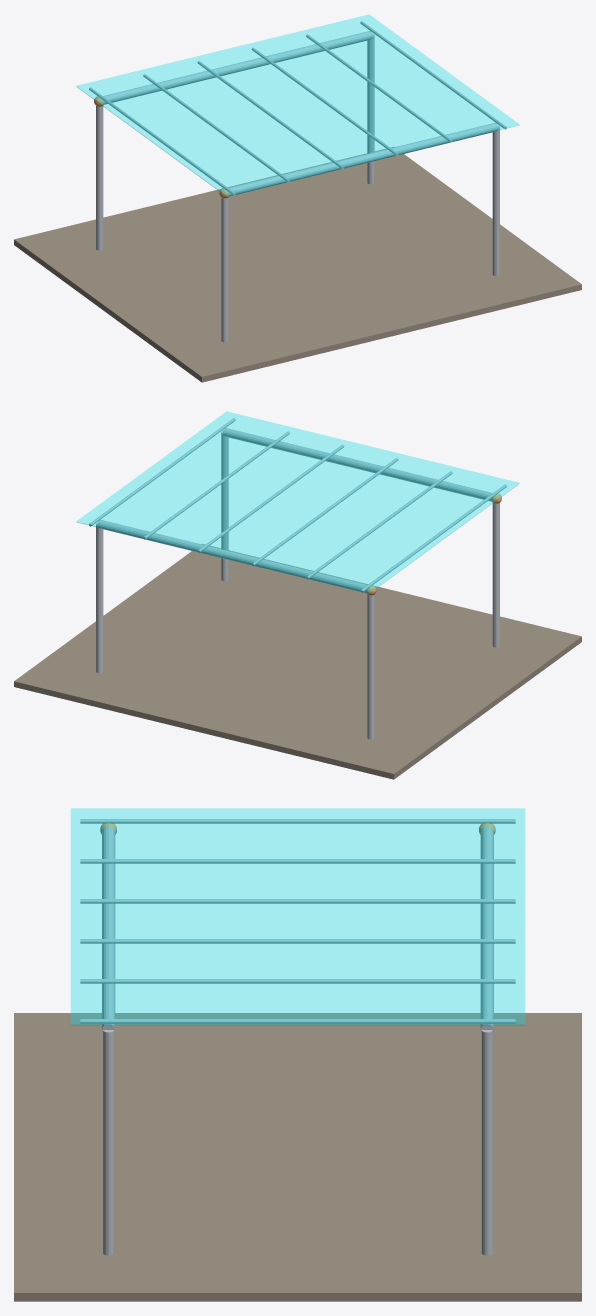
File: ar-bab08-carport.glb
The picture shows the model from 3 angles, top to bottom: view 1: azimuth 30°, elevation 25°; view 2: azimuth 150°, elevation 25°; view 3: azimuth 270°, elevation 25°; orthographic projection. The views are drawn at different scales.
Visible parts, largest first — view 1: geometry_0, geometry_15, geometry_7, geometry_3, geometry_6, geometry_5, geometry_1, geometry_2, geometry_11, geometry_12, geometry_10, geometry_13 (+2 smaller); view 2: geometry_0, geometry_15, geometry_3, geometry_7, geometry_2, geometry_1, geometry_5, geometry_6, geometry_11, geometry_12, geometry_10, geometry_13 (+2 smaller); view 3: geometry_0, geometry_15, geometry_2, geometry_6, geometry_3, geometry_7, geometry_9, geometry_10, geometry_11, geometry_12, geometry_13, geometry_14.
Part boxes in pixels (box(x1,y1,x2,y2)): geometry_0: box(14, 147, 581, 382); geometry_15: box(76, 14, 519, 196); geometry_7: box(229, 122, 498, 196); geometry_3: box(103, 31, 372, 104); geometry_6: box(492, 125, 499, 276); geometry_5: box(221, 197, 228, 342); geometry_1: box(96, 106, 103, 250); geometry_2: box(367, 34, 374, 184); geometry_11: box(197, 61, 344, 169); geometry_12: box(251, 47, 398, 155); geometry_10: box(143, 74, 289, 182); geometry_13: box(306, 34, 452, 142); geometry_0: box(14, 544, 581, 779); geometry_15: box(76, 411, 519, 593); geometry_3: box(97, 519, 366, 593); geometry_7: box(223, 428, 492, 501); geometry_2: box(96, 522, 103, 673); geometry_1: box(367, 594, 374, 739); geometry_5: box(492, 503, 499, 647); geometry_6: box(221, 431, 228, 581); geometry_11: box(251, 458, 398, 566); geometry_12: box(197, 444, 344, 552); geometry_10: box(306, 471, 452, 579); geometry_13: box(143, 431, 289, 539); geometry_0: box(14, 1013, 581, 1301); geometry_15: box(71, 808, 524, 1025); geometry_2: box(481, 1030, 492, 1255); geometry_6: box(103, 1030, 114, 1255); geometry_3: box(480, 826, 493, 1032); geometry_7: box(102, 826, 115, 1032); geometry_9: box(80, 819, 515, 823); geometry_10: box(80, 859, 515, 863); geometry_11: box(80, 899, 515, 903); geometry_12: box(80, 939, 515, 943); geometry_13: box(80, 979, 515, 983); geometry_14: box(80, 1019, 515, 1023).
Bounding box in the file's own units: 7 × 2.86 × 6.
